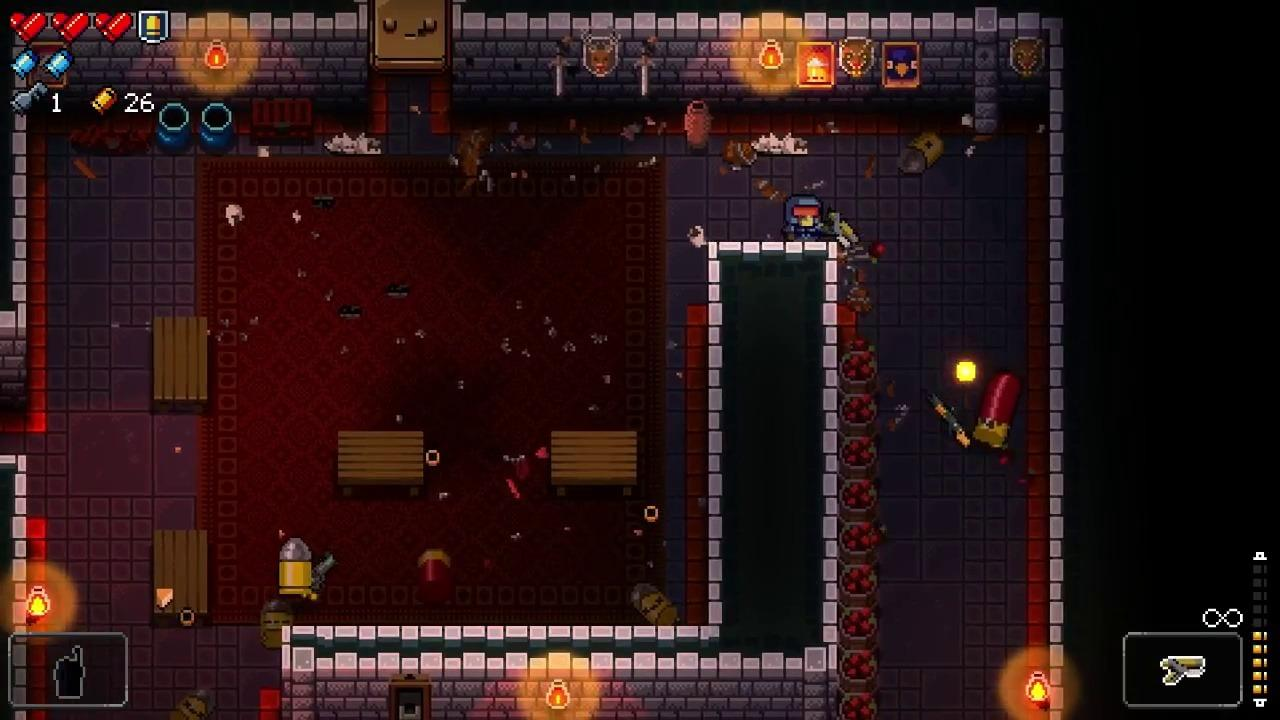bullet_kin: (278, 537, 313, 596)
dead_bullet_kin: (896, 129, 946, 173), (630, 583, 680, 626), (260, 598, 296, 649), (168, 690, 217, 720)
dead_red_shotgun_kin: (415, 547, 455, 605)
locked_door: (368, 0, 452, 73)
player: (782, 193, 823, 240)
red_shotgun_kin: (974, 370, 1022, 449)
table: (550, 431, 639, 496), (338, 430, 424, 496), (152, 530, 207, 626), (153, 318, 207, 414)
